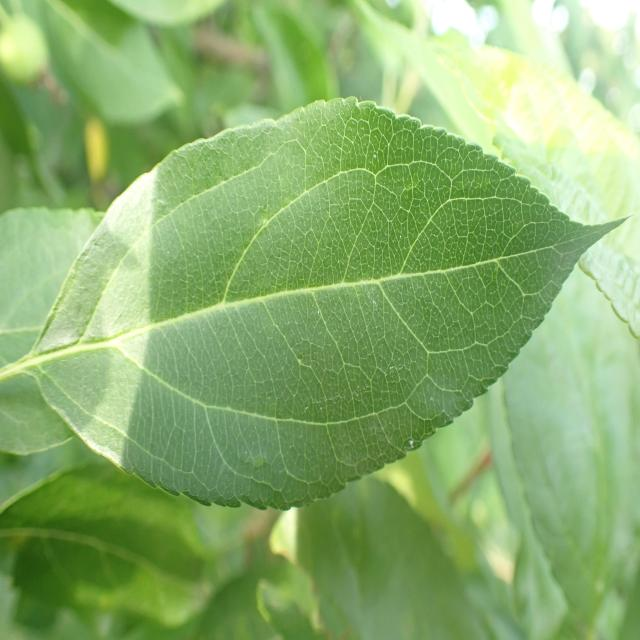healthy: (30, 97, 633, 510), (0, 206, 104, 454)
